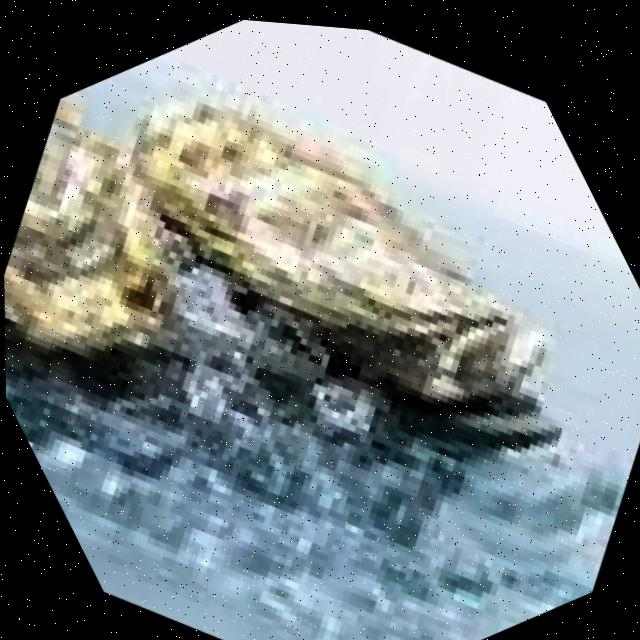Oyster-Closed: (132, 94, 547, 434)
Oyster-Indeterminate: (4, 100, 188, 359)
